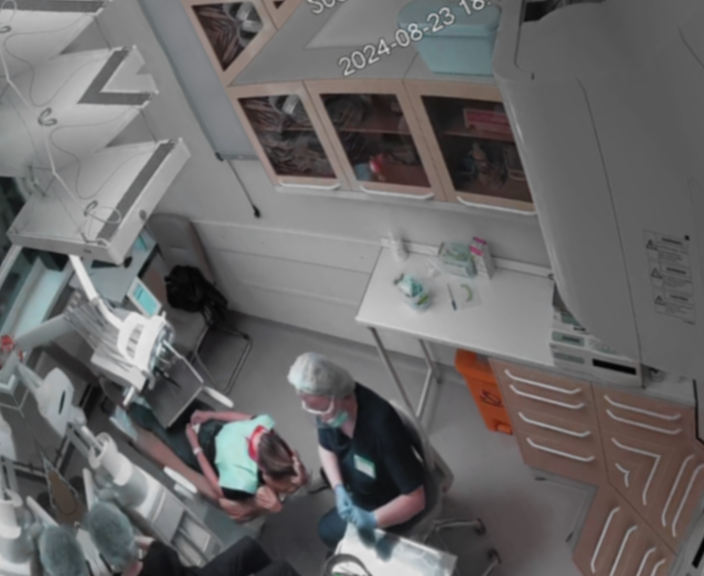Patient: (95, 332, 316, 561)
